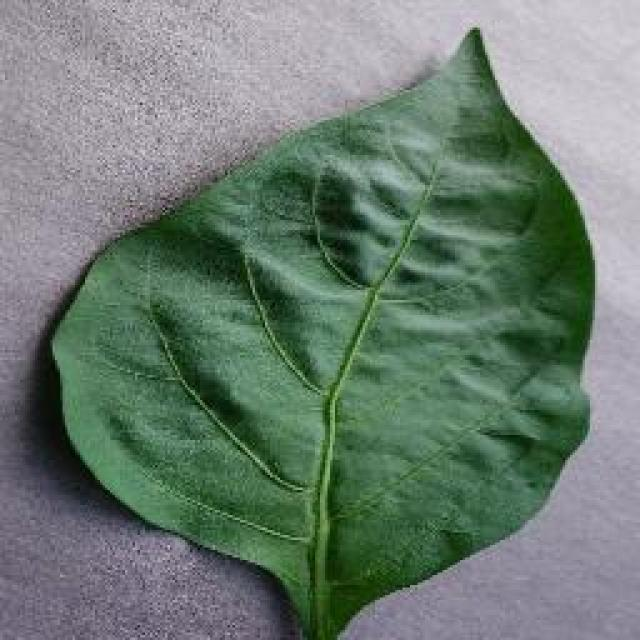Leaf: (55, 29, 598, 618)
